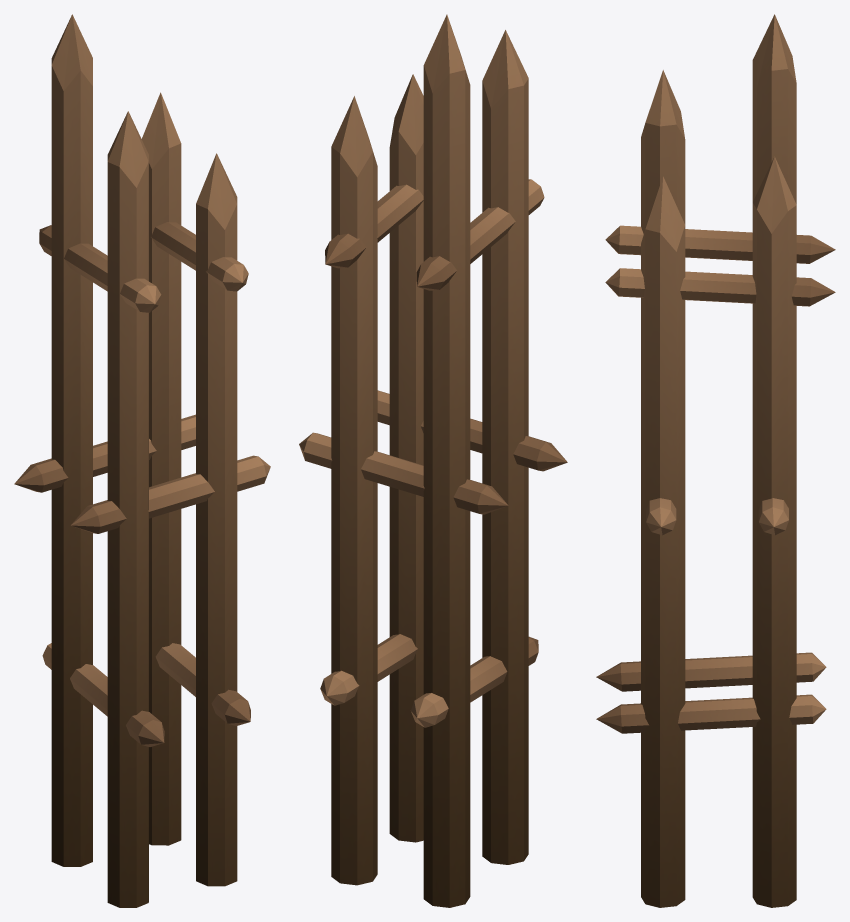
Rendered from ZLP_Build_D_2.FBX.
3 views of the same model, side by side, from view 1: azimuth 30°, elevation 25°; view 2: azimuth 150°, elevation 25°; view 3: azimuth 270°, elevation 25° (orthographic). The views are drawn at different scales.
Visible parts, largest first — view 1: ZLP_Build_D_2; view 2: ZLP_Build_D_2; view 3: ZLP_Build_D_2.
Part boxes in pixels (x1,y1,x2,y2): ZLP_Build_D_2: (14, 14, 270, 907); ZLP_Build_D_2: (299, 14, 567, 907); ZLP_Build_D_2: (596, 14, 835, 907).
Size of the model in its own units: 174 by 701 by 181.
